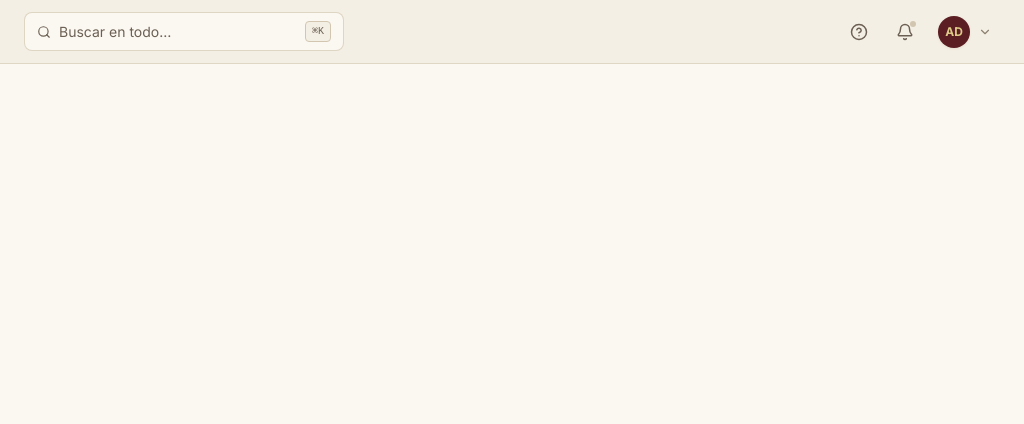
Scenario: shell notification panel and account menu › a staff account in Spanish says Personal, and a missed check says so
What coordinates should you click on to do the following:
click the button named "Notificaciones"
I would click on:
 (905, 32)
Its box is [888,14,922,48].
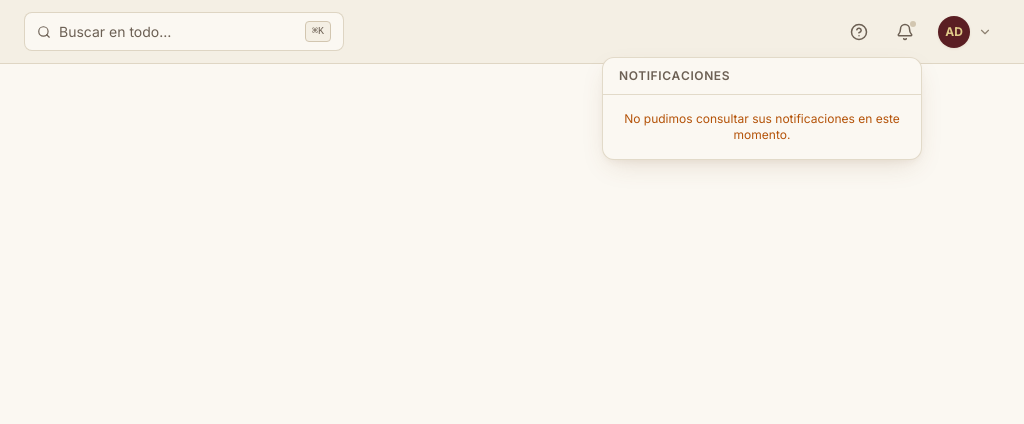
Expected: the text "No pudimos consultar sus notificaciones en este momento." is shown, [624,110,900,142]
What coordinates should you click on to do the following:
click the button "AD"
I would click on:
 (967, 32)
Its box is [934,12,1000,52].
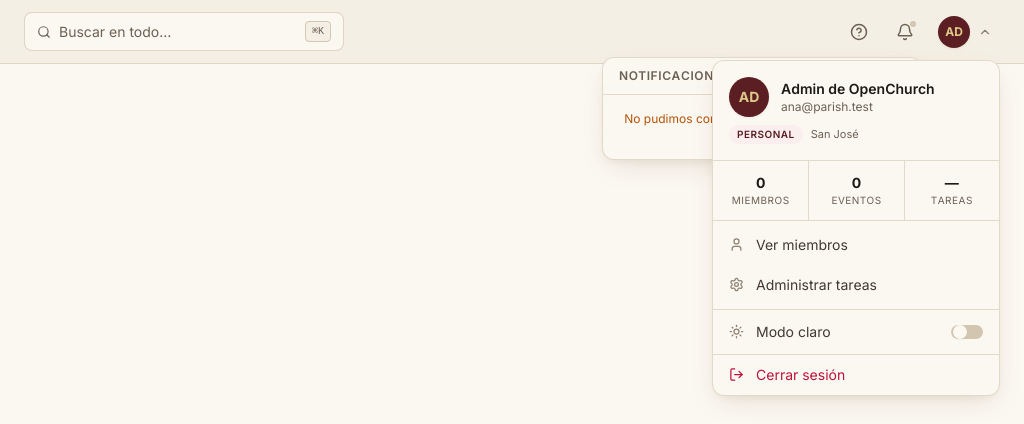
Expected: the text "Personal" is shown, [729,124,803,144]
Expected: the text "Admin de OpenChurch" is shown, [781,80,935,96]
